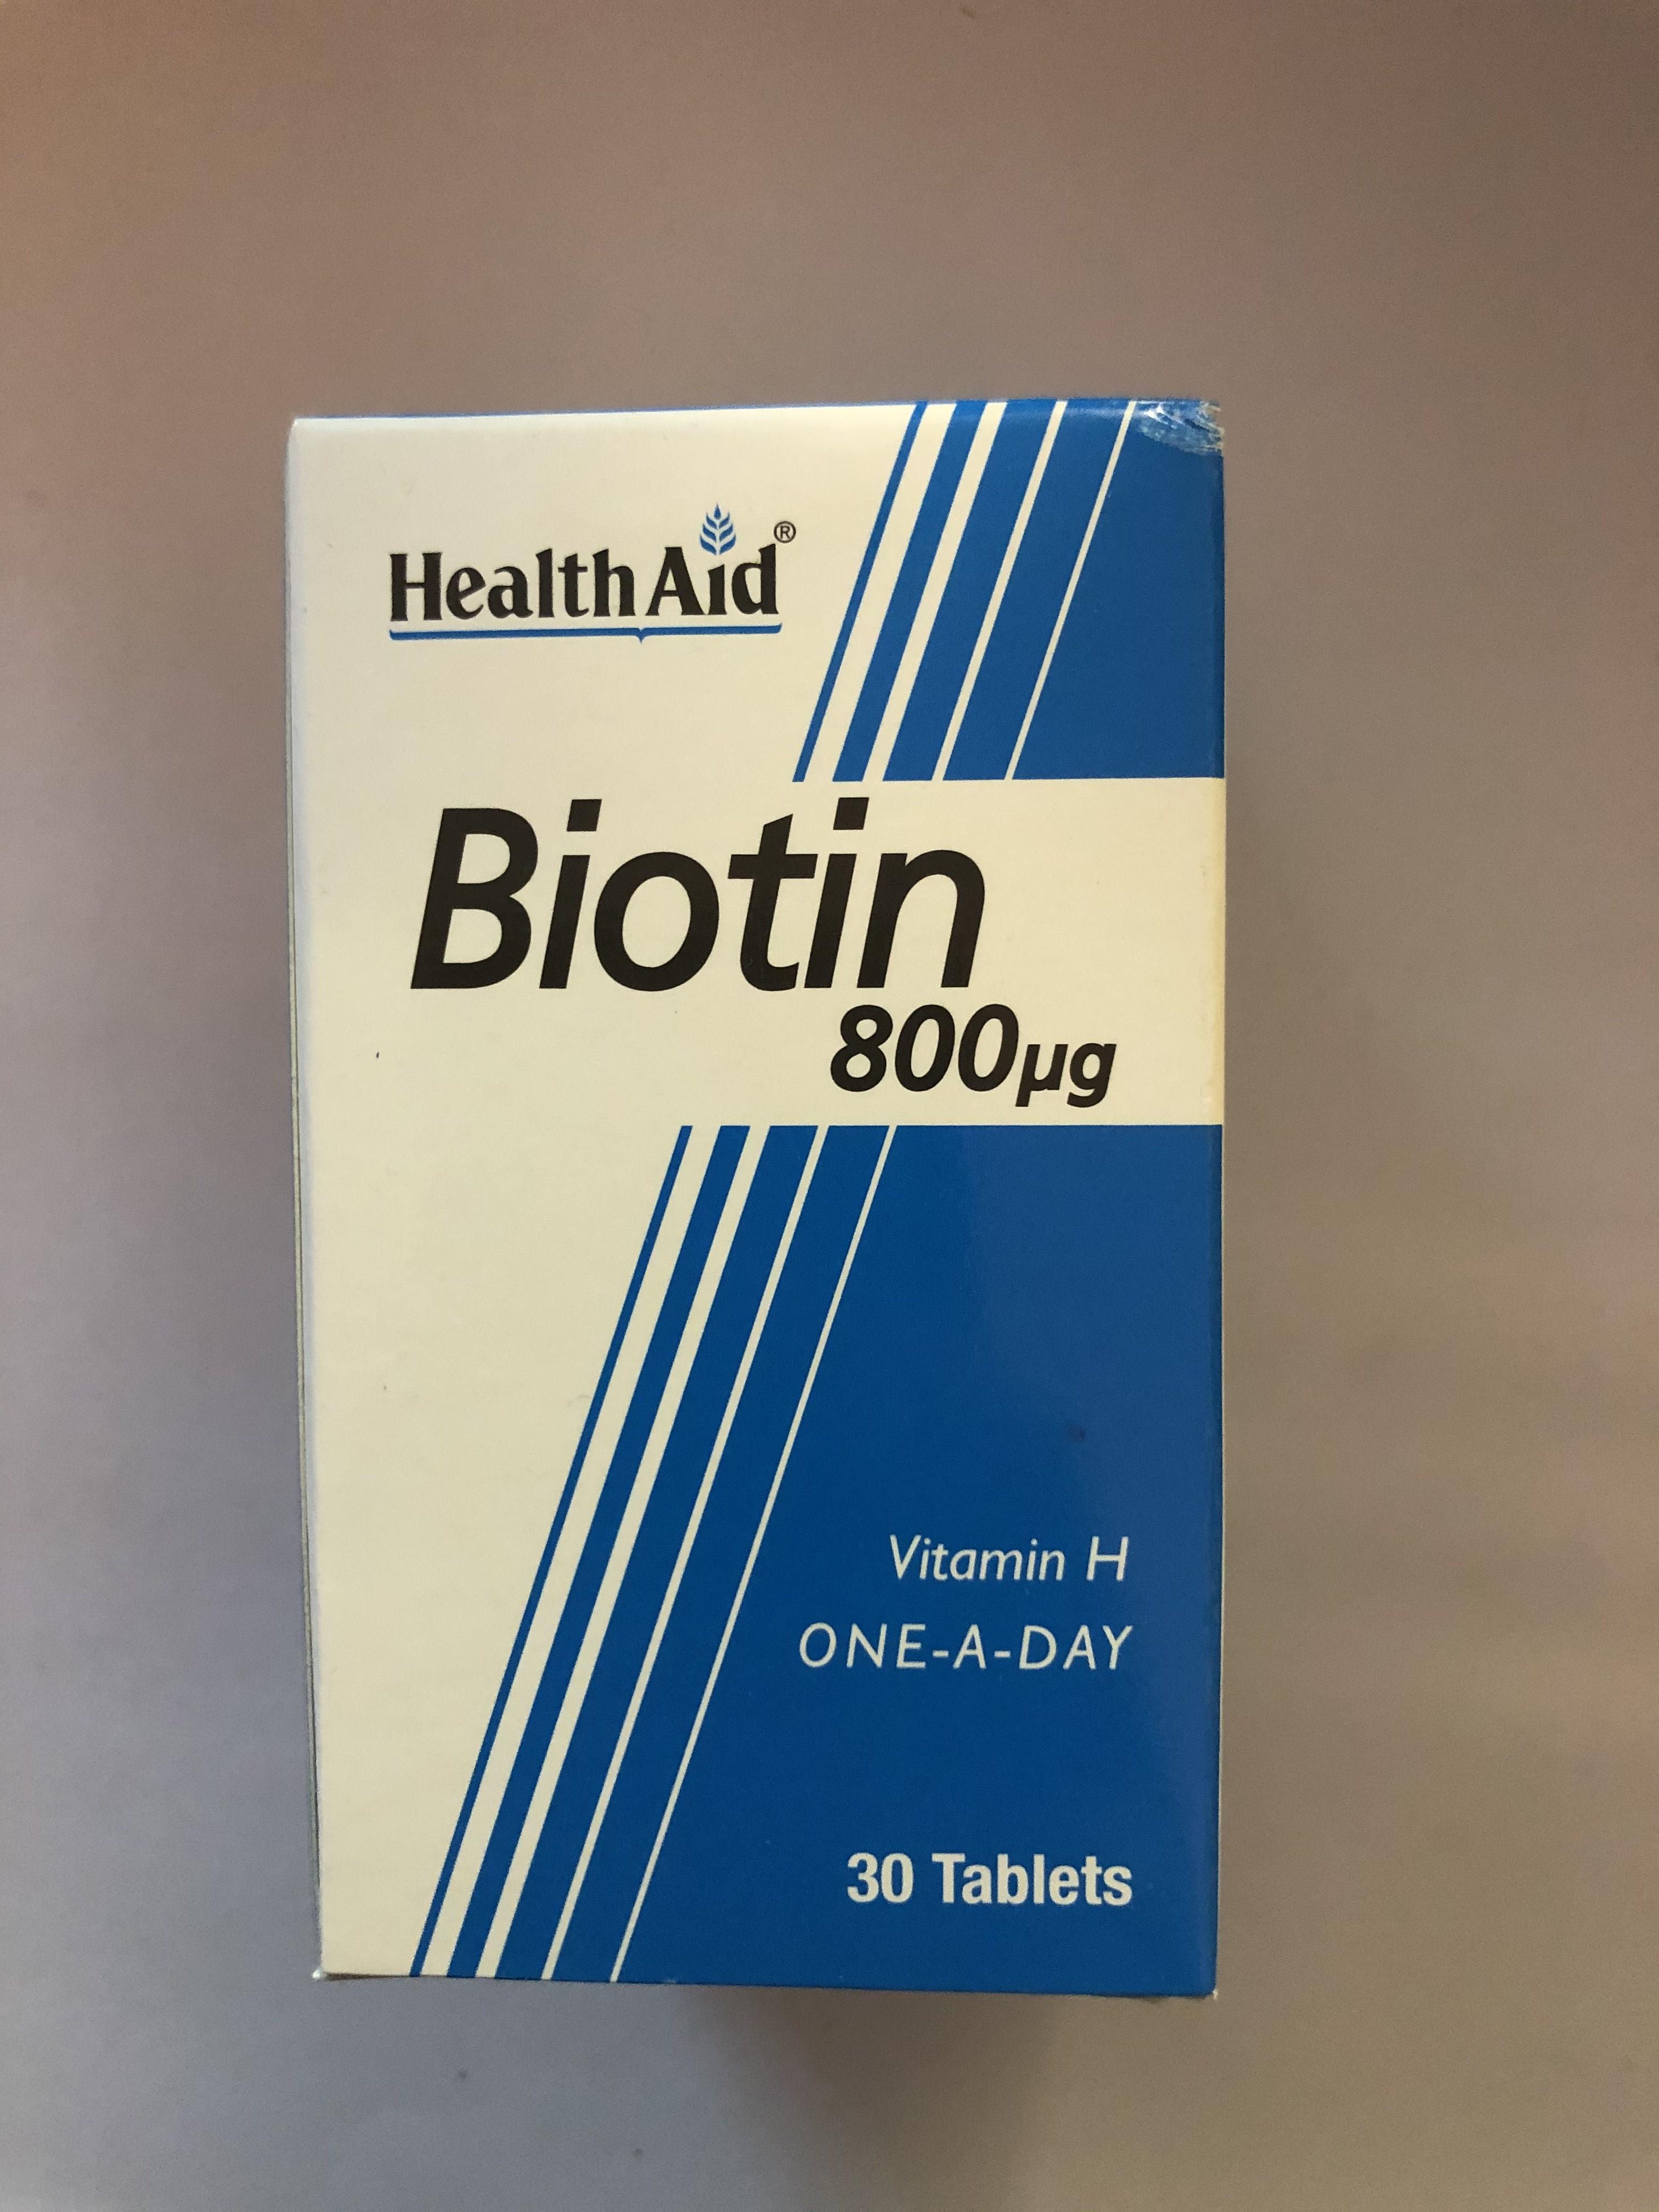Medicine name: (364, 779, 1155, 1122)
